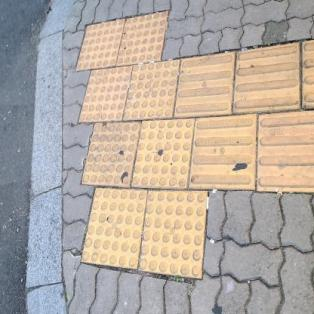Podoctatil: (72, 7, 314, 284)
